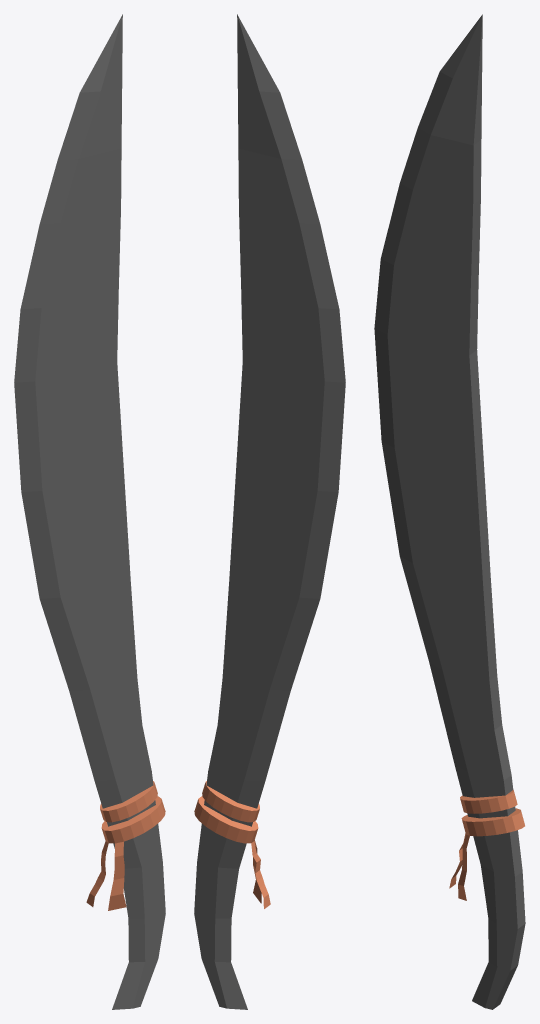
File: karakter_3_klc.fbx
The picture shows the model from 3 angles, left to right: view 1: azimuth 30°, elevation 25°; view 2: azimuth 150°, elevation 25°; view 3: azimuth 330°, elevation 25°; orthographic projection.
Parts seen in each view (by area): view 1: melee3_sword3; view 2: melee3_sword3; view 3: melee3_sword3.
Boxes of the visible parts, <box> form: melee3_sword3: <box>14,14,165,1009</box>; melee3_sword3: <box>194,14,345,1009</box>; melee3_sword3: <box>374,14,525,1009</box>.
Bounding box in the file's own units: 131 × 827 × 28.52.
